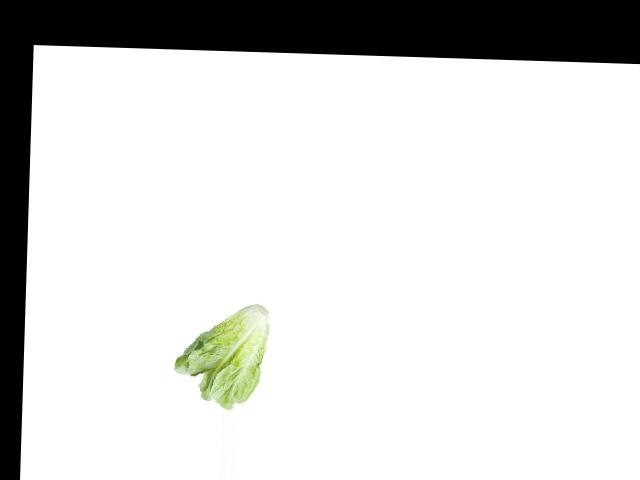lettuce: (169, 302, 273, 412)
